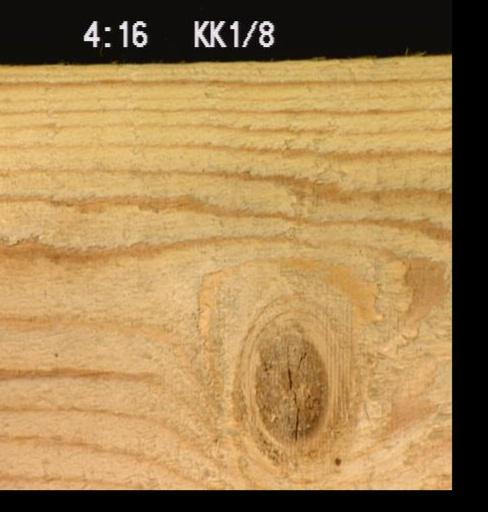small_knot: (330, 450, 346, 469)
sound_knot: (243, 325, 335, 449)
